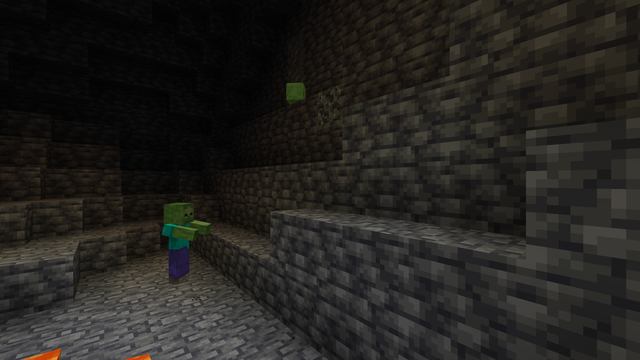slimes: (284, 80, 307, 103)
zombies: (163, 204, 193, 286)
